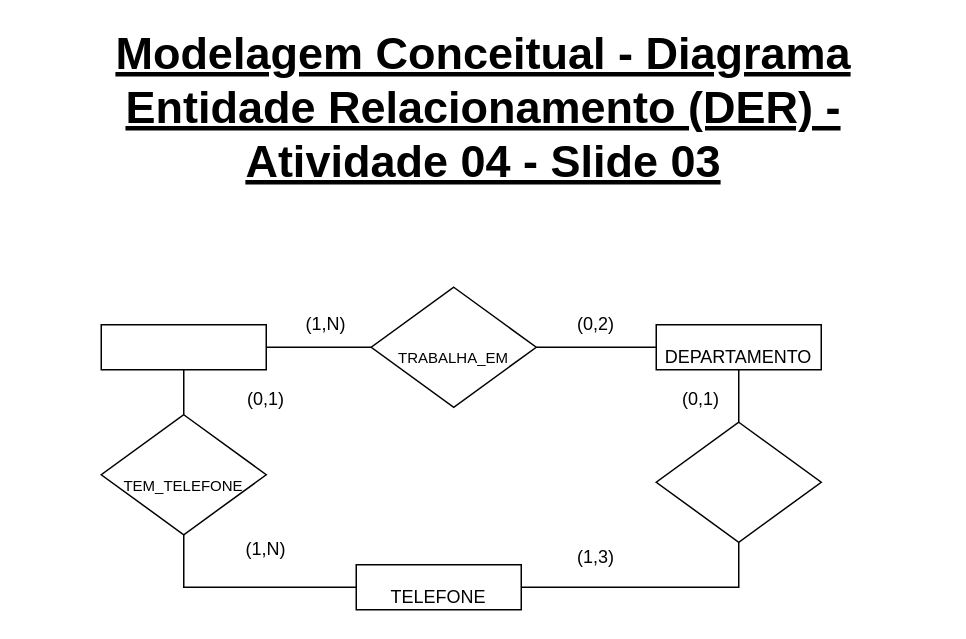
Image size: 966x639. Some labels were removed from this diagram. Each missing label, with the centre of its shape:
"FUNCIONARIO" goes at [183,346].
"POSSUI" goes at [738,481].
